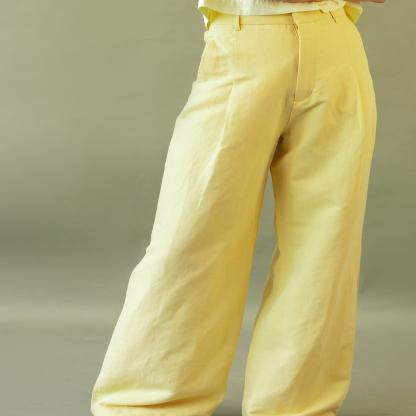dress: (64, 0, 378, 416)
